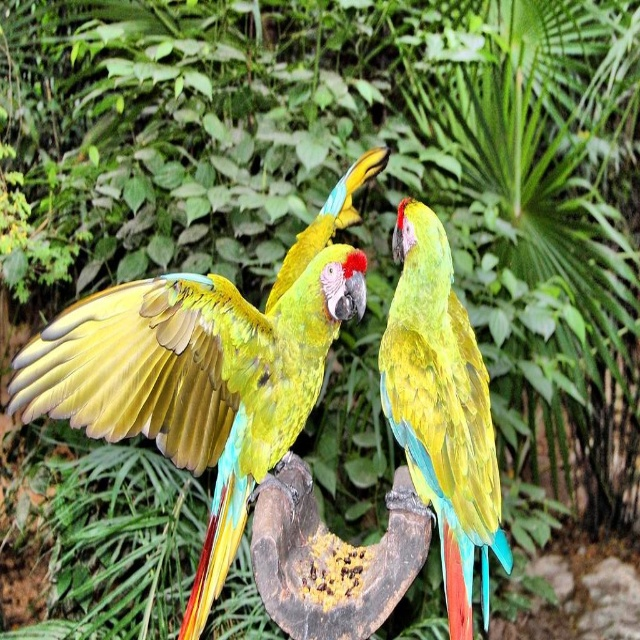Parrot: (7, 147, 390, 640), (378, 197, 514, 640)
